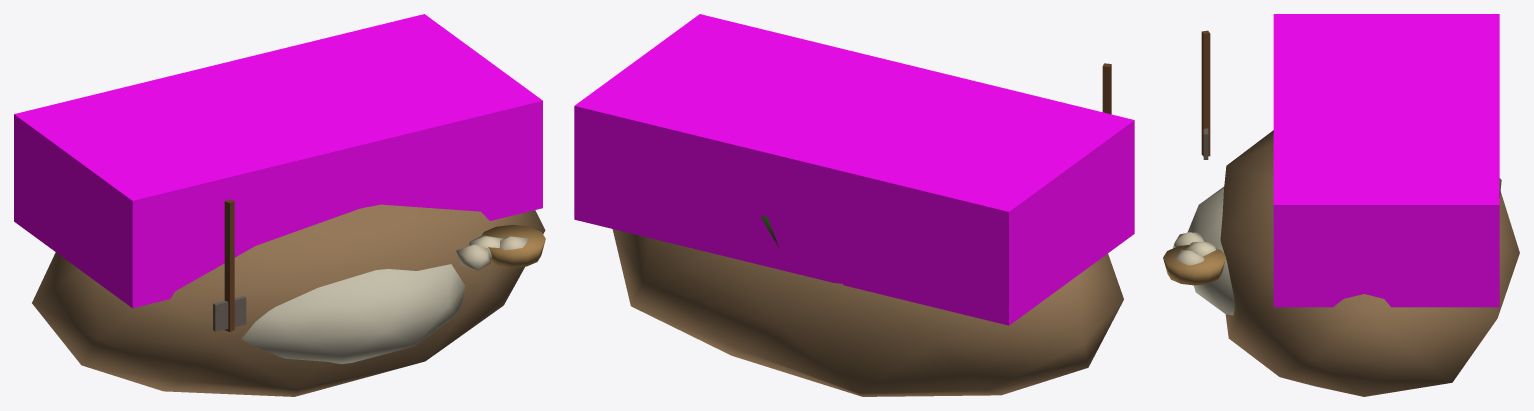
The model's file is PRP_Clay_Bank_A.glb.
3 views of the same model, side by side, from view 1: azimuth 30°, elevation 25°; view 2: azimuth 150°, elevation 25°; view 3: azimuth 270°, elevation 25° (orthographic). The views are drawn at different scales.
Visible parts, largest first — view 1: COL_Mound, PRP_Clay_Bank_A_Mesh, PICK_Clay; view 2: COL_Mound, PRP_Clay_Bank_A_Mesh; view 3: COL_Mound, PRP_Clay_Bank_A_Mesh, PICK_Clay.
Part boxes in pixels (box(x1,y1,x2,y2)): COL_Mound: box(14, 14, 542, 308); PRP_Clay_Bank_A_Mesh: box(32, 199, 545, 396); PICK_Clay: box(456, 235, 527, 270); COL_Mound: box(574, 14, 1134, 325); PRP_Clay_Bank_A_Mesh: box(612, 63, 1123, 396); COL_Mound: box(1273, 14, 1499, 307); PRP_Clay_Bank_A_Mesh: box(1163, 30, 1519, 396); PICK_Clay: box(1173, 232, 1216, 265).
Bounding box in the file's own units: 4.48 × 2.43 × 3.16.
